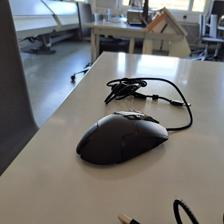mouse: (74, 107, 169, 168)
